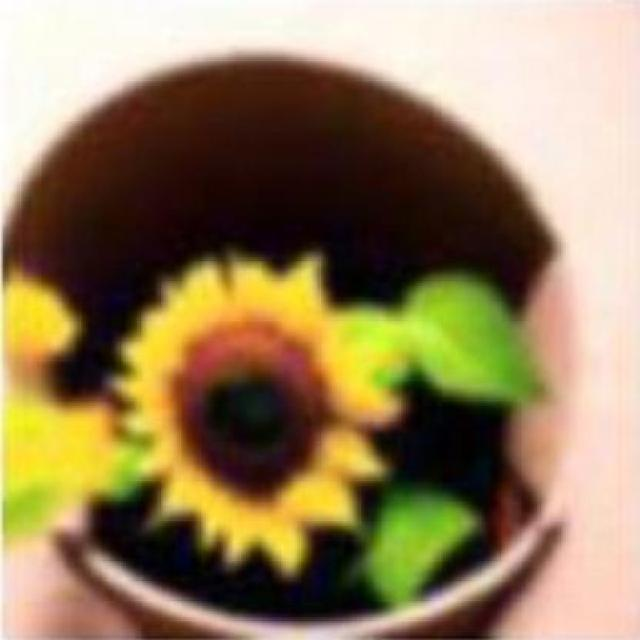sunflower: (127, 262, 391, 563)
